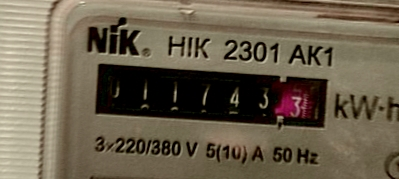0: (106, 72, 122, 101)
1: (167, 75, 181, 104), (138, 74, 150, 101)
3: (256, 83, 271, 111), (287, 94, 302, 119)
4: (226, 81, 241, 109)
7: (196, 77, 213, 106)
screen: (83, 52, 339, 139)
